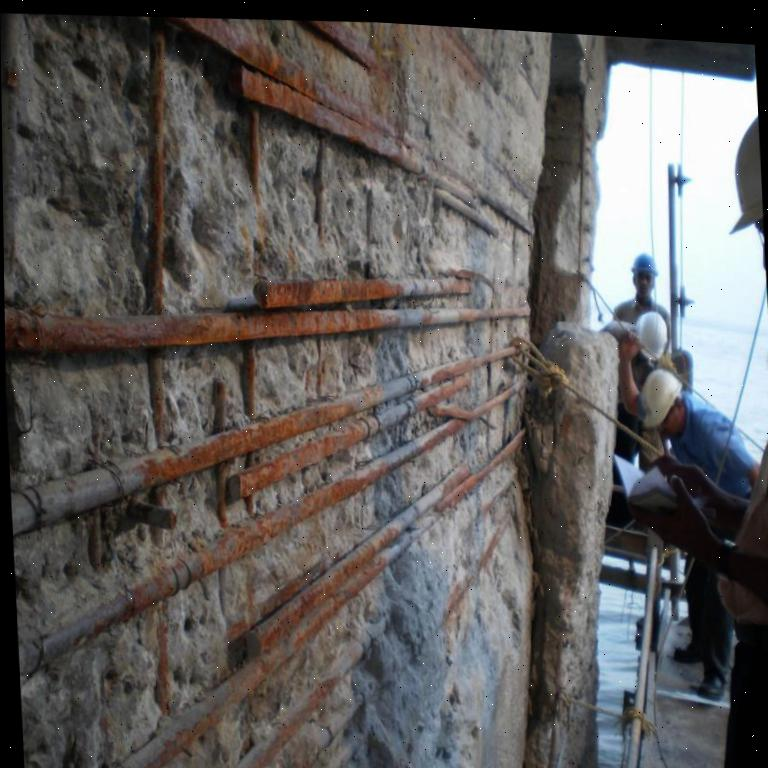exposed_rebar: (116, 431, 524, 768), (38, 375, 512, 660), (149, 17, 529, 314), (12, 348, 514, 535), (5, 278, 530, 442), (233, 639, 369, 768), (443, 528, 504, 620), (0, 14, 19, 273), (303, 21, 376, 67), (154, 605, 172, 714), (312, 135, 327, 236), (214, 383, 226, 427)
spalling: (0, 14, 555, 768)
